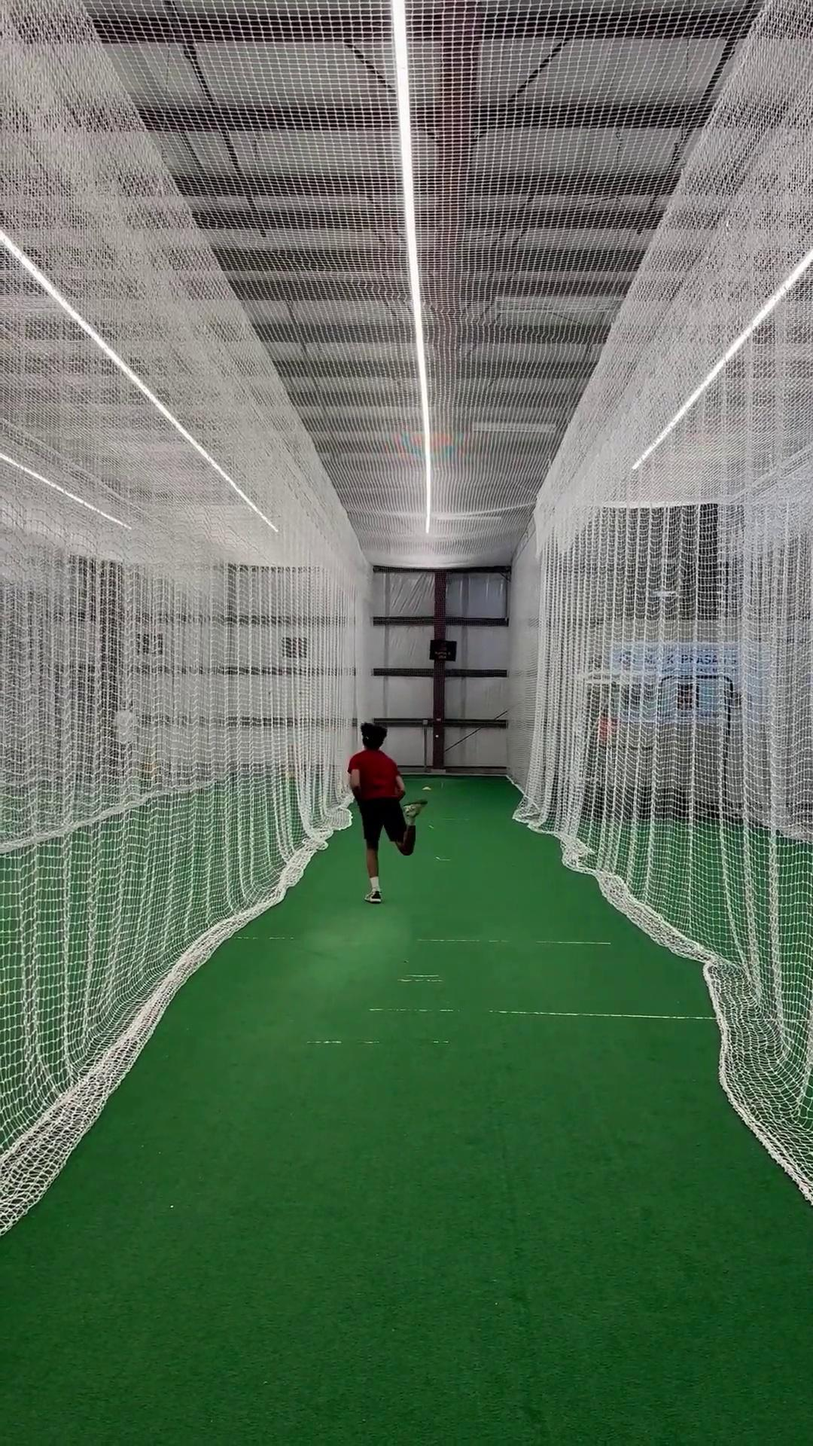ball: (434, 734, 441, 739)
